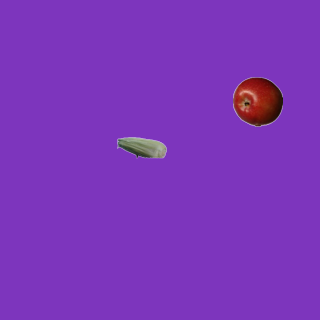Apple Braeburn: (232, 76, 282, 126)
Corn Husk: (116, 122, 166, 172)
